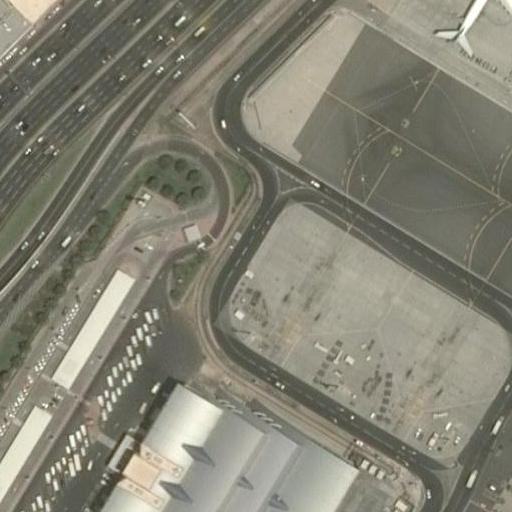Aircraft: (425, 0, 512, 54)
